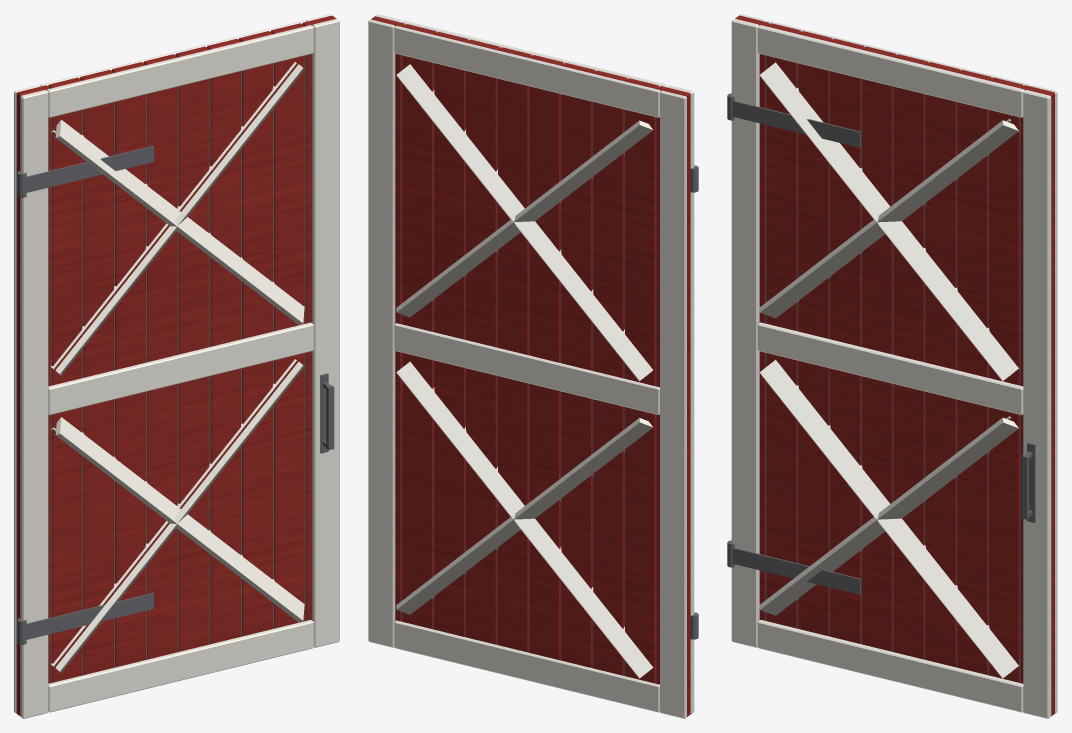
File: barn_door_leaf.glb
The picture shows the model from 3 angles, left to right: view 1: azimuth 30°, elevation 25°; view 2: azimuth 150°, elevation 25°; view 3: azimuth 330°, elevation 25°; orthographic projection.
Visible parts, largest first — view 1: barn_door_leaf_barn, barn_door_leaf_trim, barn_door_leaf_dark, barn_door_leaf_iron; view 2: barn_door_leaf_barn, barn_door_leaf_trim, barn_door_leaf_dark; view 3: barn_door_leaf_barn, barn_door_leaf_trim, barn_door_leaf_dark, barn_door_leaf_iron.
Part boxes in pixels (bbox=[...]): barn_door_leaf_barn: bbox=[16, 15, 336, 715]; barn_door_leaf_trim: bbox=[14, 14, 339, 718]; barn_door_leaf_dark: bbox=[50, 55, 305, 682]; barn_door_leaf_iron: bbox=[17, 146, 334, 644]; barn_door_leaf_barn: bbox=[371, 16, 690, 716]; barn_door_leaf_trim: bbox=[368, 14, 694, 718]; barn_door_leaf_dark: bbox=[402, 55, 656, 683]; barn_door_leaf_barn: bbox=[735, 15, 1054, 715]; barn_door_leaf_trim: bbox=[731, 14, 1057, 718]; barn_door_leaf_dark: bbox=[766, 55, 1020, 683]; barn_door_leaf_iron: bbox=[727, 93, 1035, 594].
Size of the model in its own units: 1.73 by 3.2 by 0.1981.
4 materials, 1 textured.
